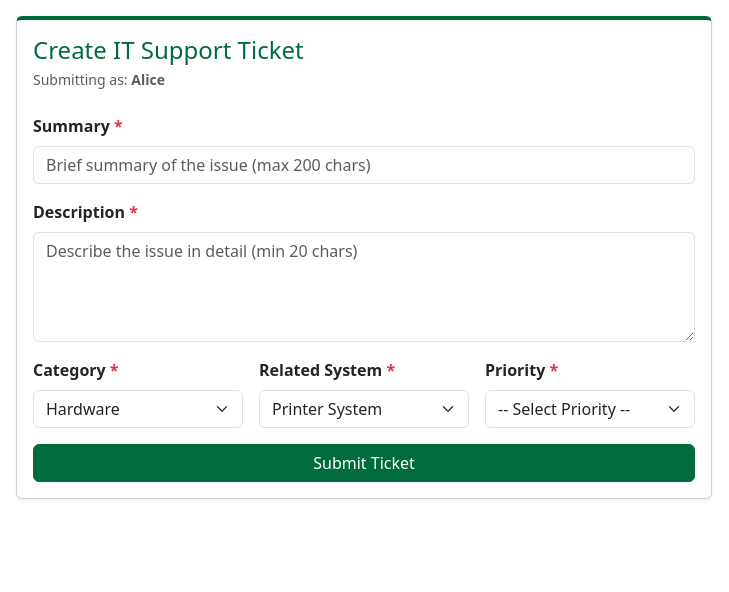
Test: CreateTicket Component › should show success message on valid submission
Check: the dropdown with test id "select-category" is enabled, box x1=33 y1=390 x2=243 y2=428
Type "My printer is broken completely" into the field with test id "input-summary" at (364, 165), box x1=33 y1=146 x2=695 y2=184
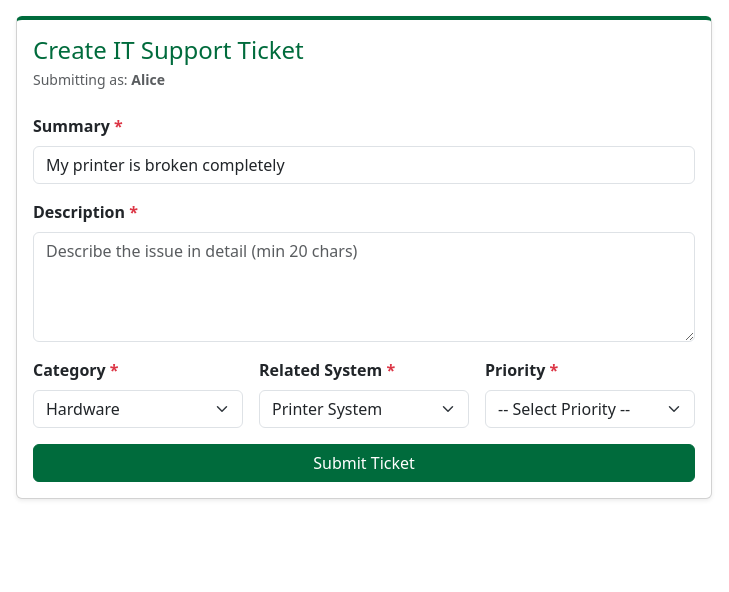
Type "The printer on the 3rd floor has not been working for two days and I need it urgently." into the text box with test id "input-description" at (364, 287), box x1=33 y1=232 x2=695 y2=342
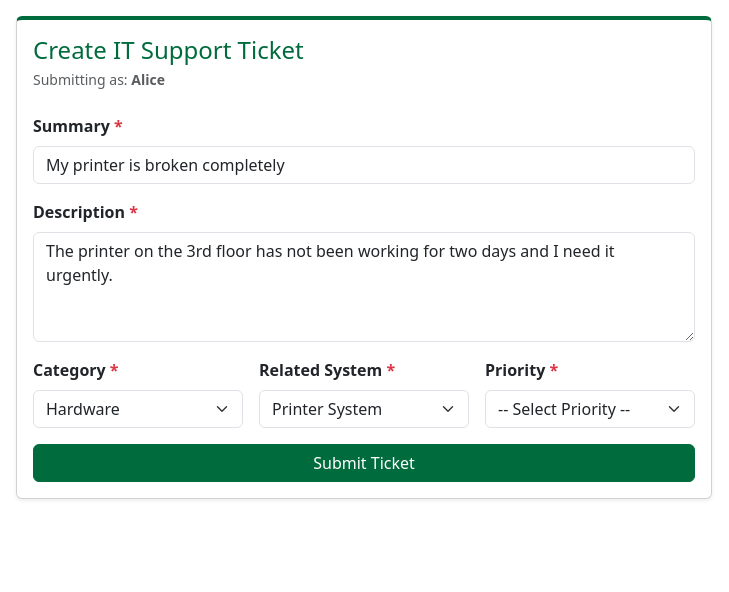
Select "High" in the dropdown with test id "select-priority" at (590, 409), box x1=485 y1=390 x2=695 y2=428
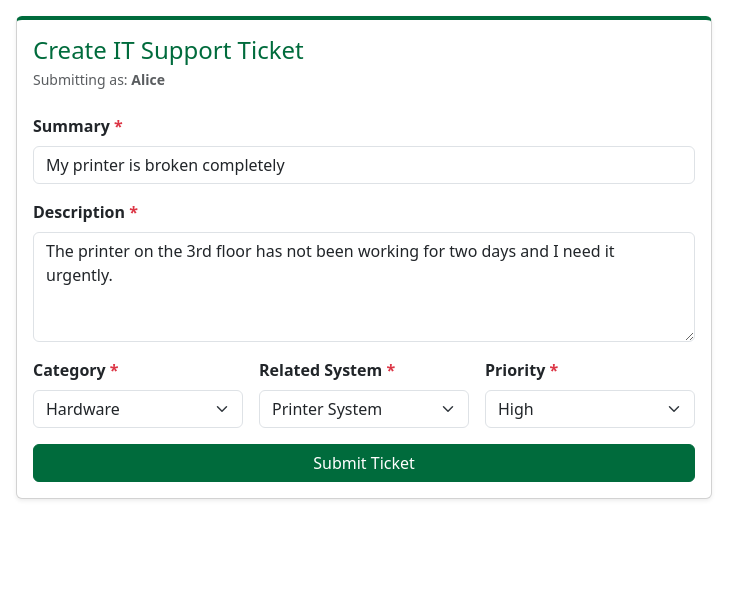
Click the button with test id "submit-btn" at (364, 463), box x1=33 y1=444 x2=695 y2=482
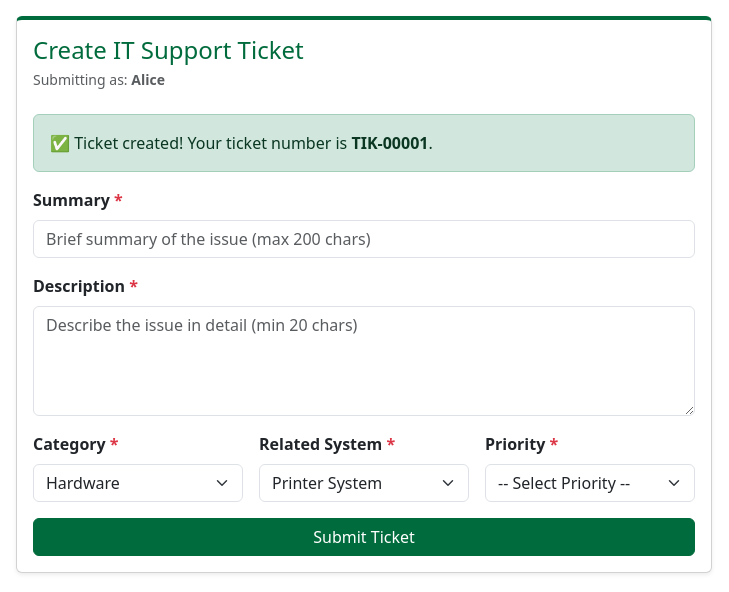
Check: the element with test id "success-message" is shown, box x1=33 y1=114 x2=695 y2=172
Check: the text "TIK-00001" is shown, box x1=352 y1=132 x2=428 y2=154
